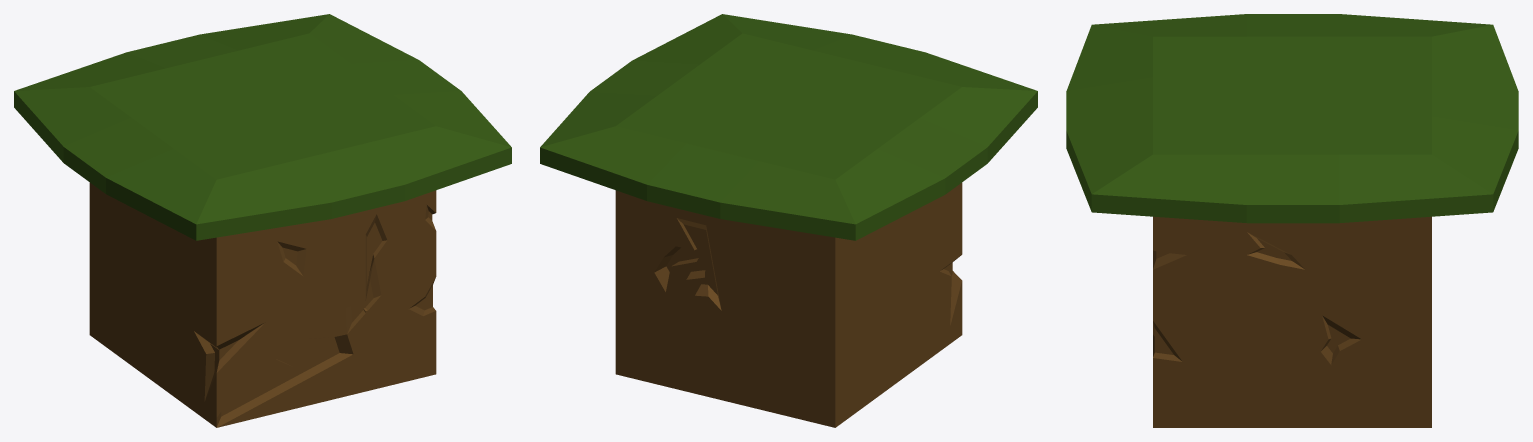
The model's file is plataforma_aula_design.fbx.
The picture shows the model from 3 angles, left to right: view 1: azimuth 30°, elevation 25°; view 2: azimuth 150°, elevation 25°; view 3: azimuth 270°, elevation 25°; orthographic projection. The views are drawn at different scales.
Parts seen in each view (by area): view 1: Cube; view 2: Cube; view 3: Cube.
Boxes of the visible parts, bbox=[...] form: Cube: bbox=[14, 14, 511, 427]; Cube: bbox=[540, 14, 1037, 427]; Cube: bbox=[1066, 14, 1518, 427].
Size of the model in its own units: 324 by 216 by 324.
